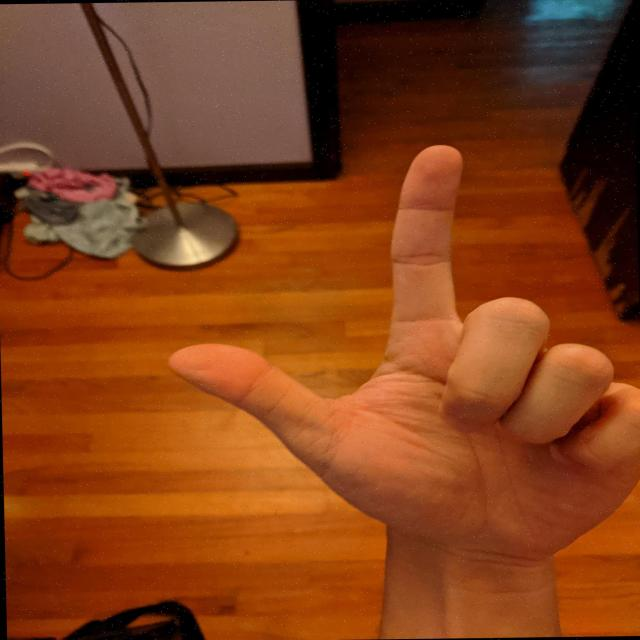L: (154, 133, 640, 570)
